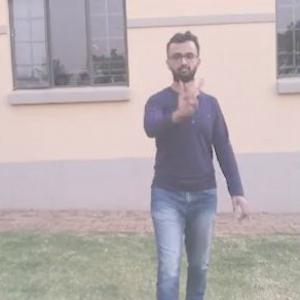takeoff-hand: (172, 80, 202, 122)
